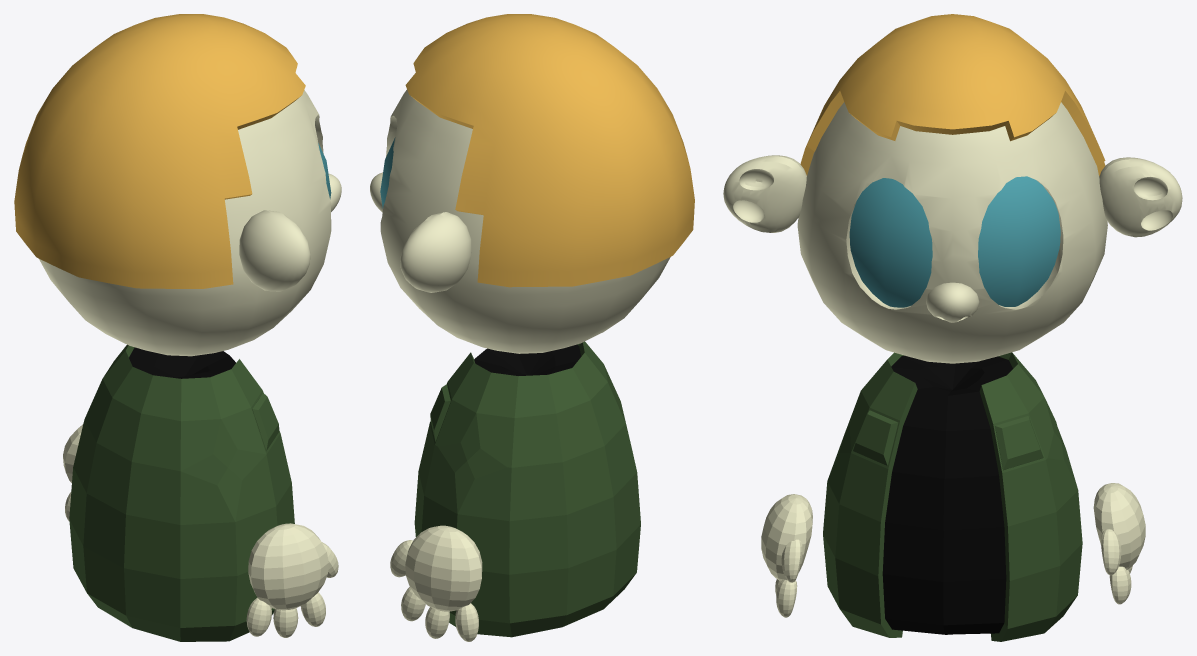
File: npc 3low poly .fbx
The picture shows the model from 3 angles, left to right: view 1: azimuth 30°, elevation 25°; view 2: azimuth 150°, elevation 25°; view 3: azimuth 270°, elevation 25°; orthographic projection. The views are drawn at different scales.
Visible parts, largest first — view 1: Sphere.001, Sphere, Sphere.009, Sphere.023, Sphere.016, Sphere.017, Sphere.018, Sphere.008; view 2: Sphere.001, Sphere, Sphere.008, Sphere.022, Sphere.014, Sphere.013, Sphere.012, Sphere.011; view 3: Sphere.001, Sphere, Sphere.019, Sphere.022, Sphere.023, Sphere.008, Sphere.009, Sphere.024, Sphere.011, Sphere.015.
Boxes of the visible parts, box(x1,y1,x2,y2) form: Sphere.001: box(14, 14, 331, 356); Sphere: box(69, 344, 294, 641); Sphere.009: box(248, 523, 328, 610); Sphere.023: box(239, 210, 310, 291); Sphere.016: box(246, 597, 271, 636); Sphere.017: box(273, 608, 298, 637); Sphere.018: box(300, 592, 325, 626); Sphere.008: box(63, 424, 83, 482); Sphere.001: box(380, 14, 694, 353); Sphere: box(414, 341, 640, 637); Sphere.008: box(405, 525, 482, 611); Sphere.022: box(400, 212, 471, 292); Sphere.014: box(455, 603, 478, 641); Sphere.013: box(425, 607, 449, 638); Sphere.012: box(401, 587, 425, 621); Sphere.011: box(390, 540, 412, 577); Sphere.001: box(797, 14, 1107, 363); Sphere: box(823, 352, 1082, 641); Sphere.019: box(849, 176, 1060, 307); Sphere.022: box(1099, 157, 1182, 237); Sphere.023: box(723, 155, 806, 232); Sphere.008: box(1093, 483, 1145, 569); Sphere.009: box(761, 494, 812, 581); Sphere.024: box(926, 282, 979, 322); Sphere.011: box(1101, 529, 1121, 575); Sphere.015: box(781, 539, 802, 582).
Size of the model in its own units: 129 by 232 by 165.
